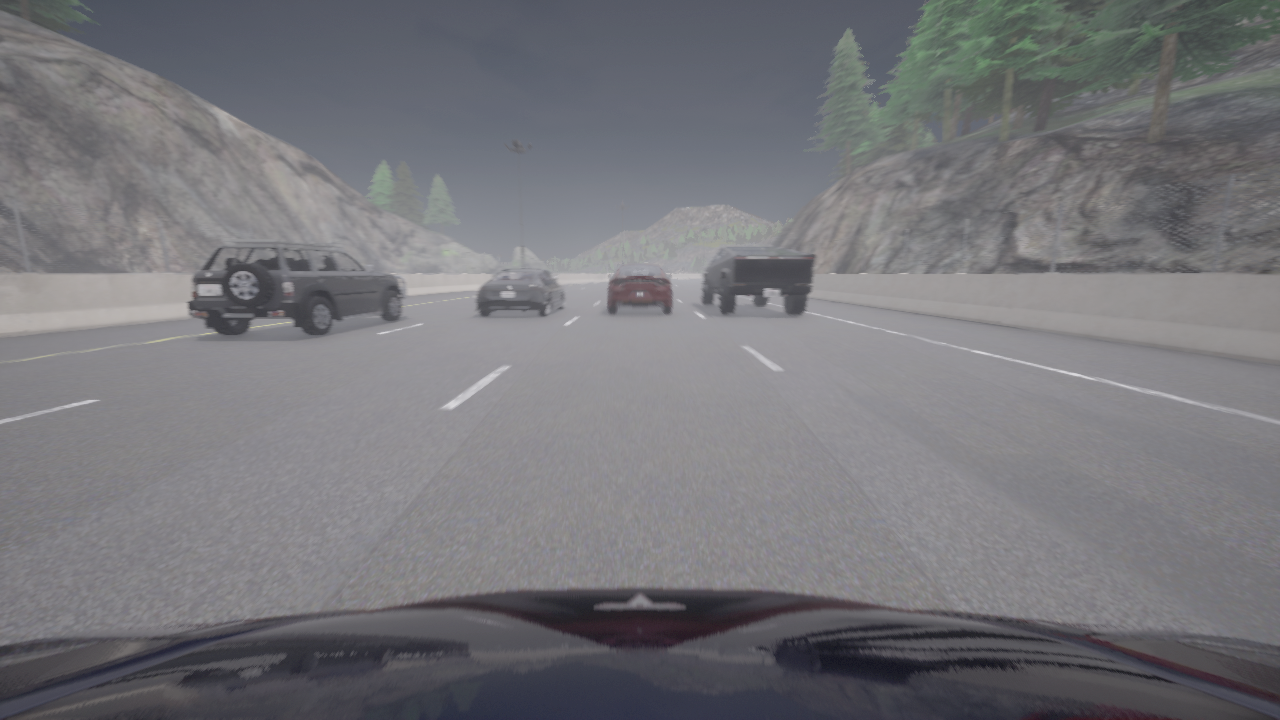cyclist: (0, 588, 1279, 719), (186, 240, 406, 336), (700, 246, 814, 315), (476, 268, 565, 316), (608, 263, 671, 313), (543, 269, 558, 282)
